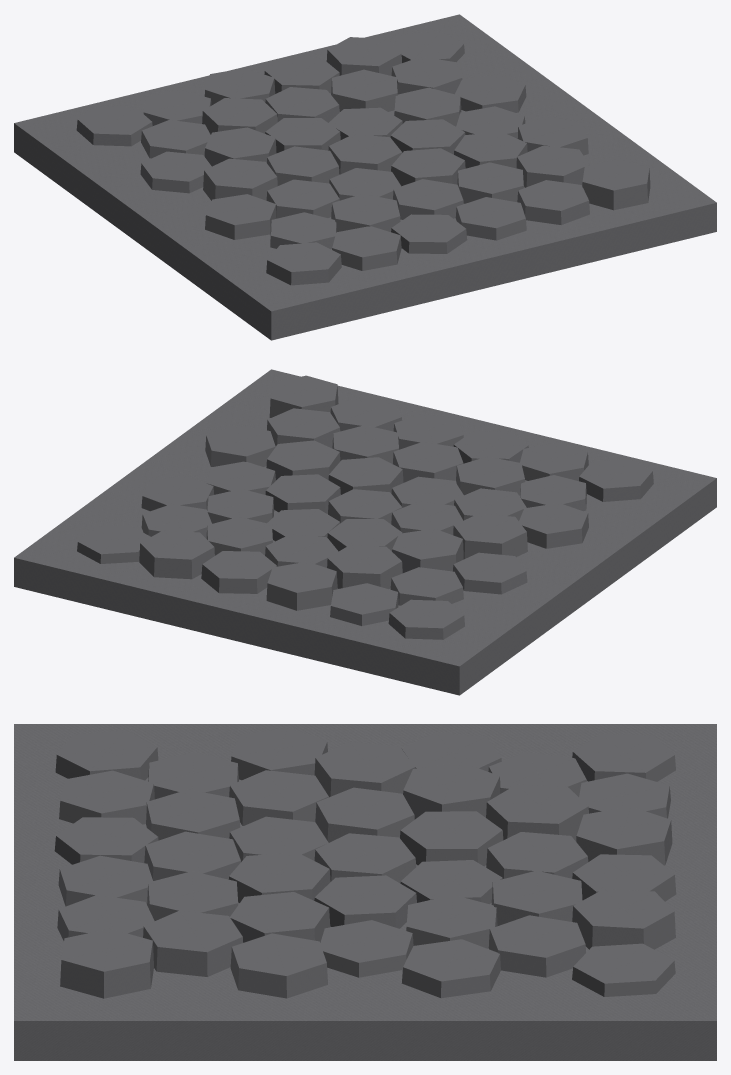
The model's file is hexago.glb.
3 views of the same model, one above another, from view 1: azimuth 30°, elevation 25°; view 2: azimuth 150°, elevation 25°; view 3: azimuth 270°, elevation 25° (orthographic). The views are drawn at different scales.
Parts seen in each view (by area): view 1: volcano-and-lava-fields-hexagonal-basalt-pavement-module; view 2: volcano-and-lava-fields-hexagonal-basalt-pavement-module; view 3: volcano-and-lava-fields-hexagonal-basalt-pavement-module.
Boxes of the visible parts, x1=… form: volcano-and-lava-fields-hexagonal-basalt-pavement-module: x1=14, y1=14, x2=716, y2=340; volcano-and-lava-fields-hexagonal-basalt-pavement-module: x1=14, y1=369, x2=716, y2=695; volcano-and-lava-fields-hexagonal-basalt-pavement-module: x1=14, y1=724, x2=716, y2=1060.
Size of the model in its own units: 4 by 0.4194 by 4.
Materials: 1 (1 with a texture image).
